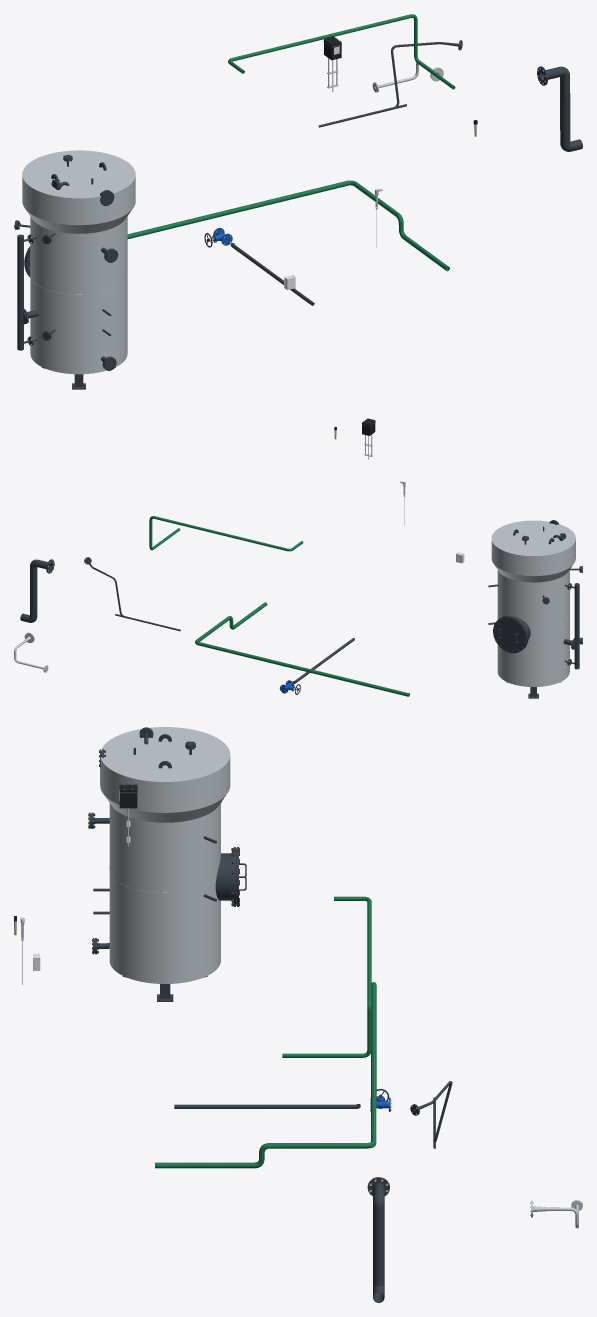
3 renders of one model, top to bottom at view 1: azimuth 30°, elevation 25°; view 2: azimuth 150°, elevation 25°; view 3: azimuth 270°, elevation 25°, orthographic. The views are drawn at different scales.
Parts seen in each view (by area): view 1: deaerator / shell, suction_common / green, bdv_water_drain / dark, to_direct / green, deaerator / dark, tds_without_fv / dark; view 2: deaerator / shell, suction_common / green, DA3 CAD 76, to_direct / green, bdv_water_drain / dark, deaerator / dark; view 3: deaerator / shell, suction_common / green, bdv_water_drain / dark, to_direct / green, bottom_piping / dark, DA3 CAD 11.
Boxes of the visible parts, left/top/right/bottom form: deaerator / shell: left=22, top=150, right=135, bottom=374; suction_common / green: left=127, top=180, right=449, bottom=271; bdv_water_drain / dark: left=537, top=66, right=582, bottom=151; to_direct / green: left=228, top=14, right=455, bottom=89; deaerator / dark: left=17, top=234, right=37, bottom=350; tds_without_fv / dark: left=319, top=40, right=462, bottom=127; deaerator / shell: left=491, top=520, right=575, bottom=686; suction_common / green: left=195, top=602, right=409, bottom=696; DA3 CAD 76: left=493, top=616, right=527, bottom=653; to_direct / green: left=149, top=516, right=303, bottom=551; bdv_water_drain / dark: left=20, top=559, right=54, bottom=622; deaerator / dark: left=564, top=583, right=579, bottom=669; deaerator / shell: left=100, top=727, right=230, bottom=983; suction_common / green: left=155, top=982, right=376, bottom=1168; bdv_water_drain / dark: left=367, top=1177, right=389, bottom=1302; to_direct / green: left=282, top=896, right=371, bottom=1057; bottom_piping / dark: left=174, top=1104, right=360, bottom=1108; DA3 CAD 11: left=215, top=853, right=233, bottom=900.
Bounding box in the file's own units: 8.55 × 3.57 × 5.59.
